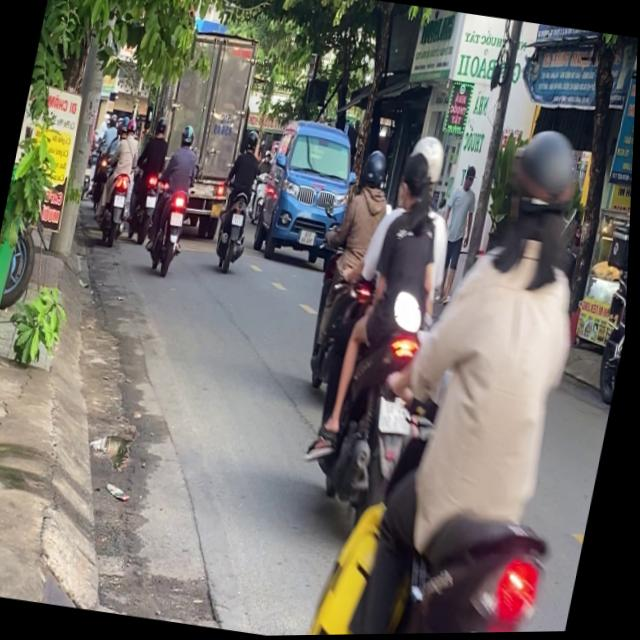helmet: (497, 123, 590, 259), (406, 132, 451, 183), (362, 148, 393, 193), (181, 122, 198, 147), (246, 127, 262, 153)
licenseplate: (307, 101, 636, 636), (295, 121, 478, 547), (301, 141, 408, 404), (144, 120, 208, 276), (592, 180, 633, 421), (211, 125, 271, 272)
motorcyclist: (397, 152, 440, 212)
nohelmet: (378, 395, 419, 437), (171, 211, 186, 227), (233, 213, 246, 227)
